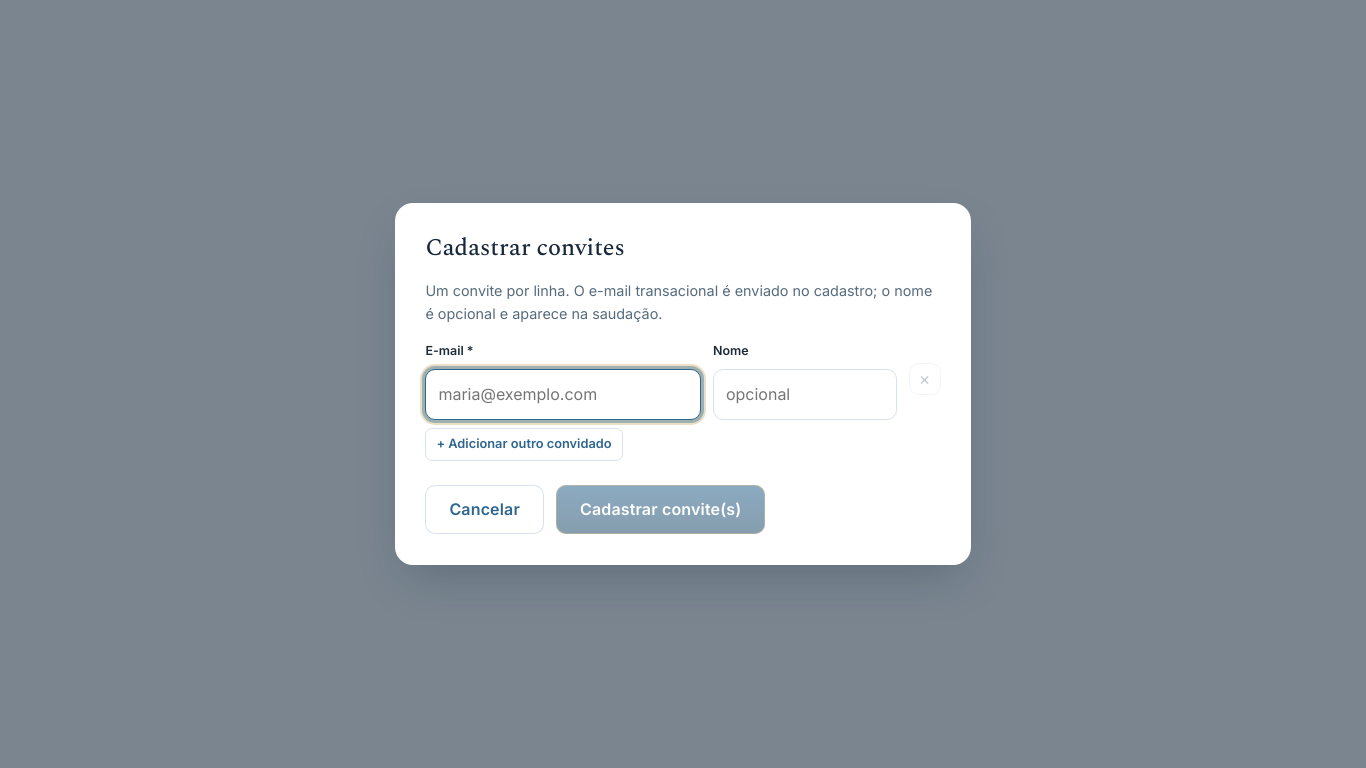
Scenario: ModalConvite › mantém aberto e lista falhas parciais
In the field with placeholder "maria@exemplo.com": (563,395) [425,369,701,420], type "a@x.com"
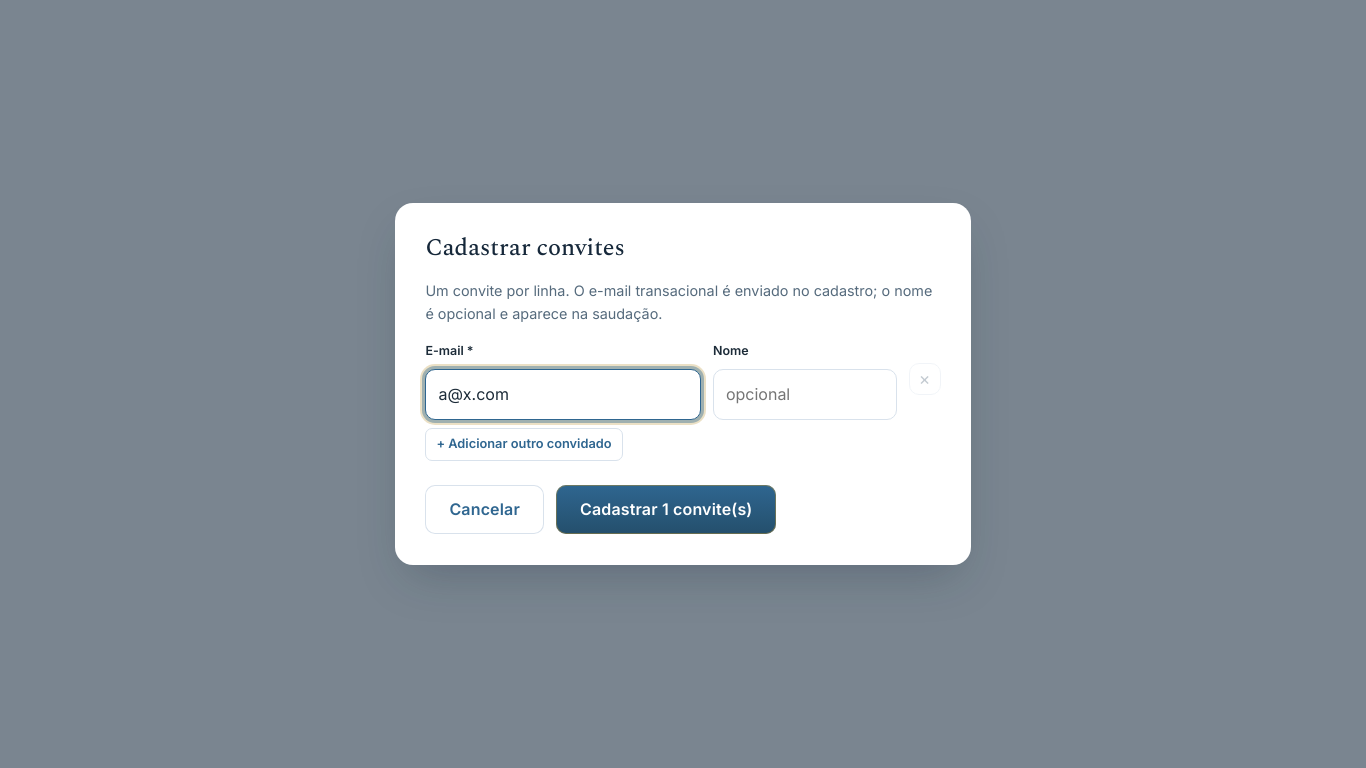
Click the button "Cadastrar 1 convite(s)": (666,510) [556,485,776,534]
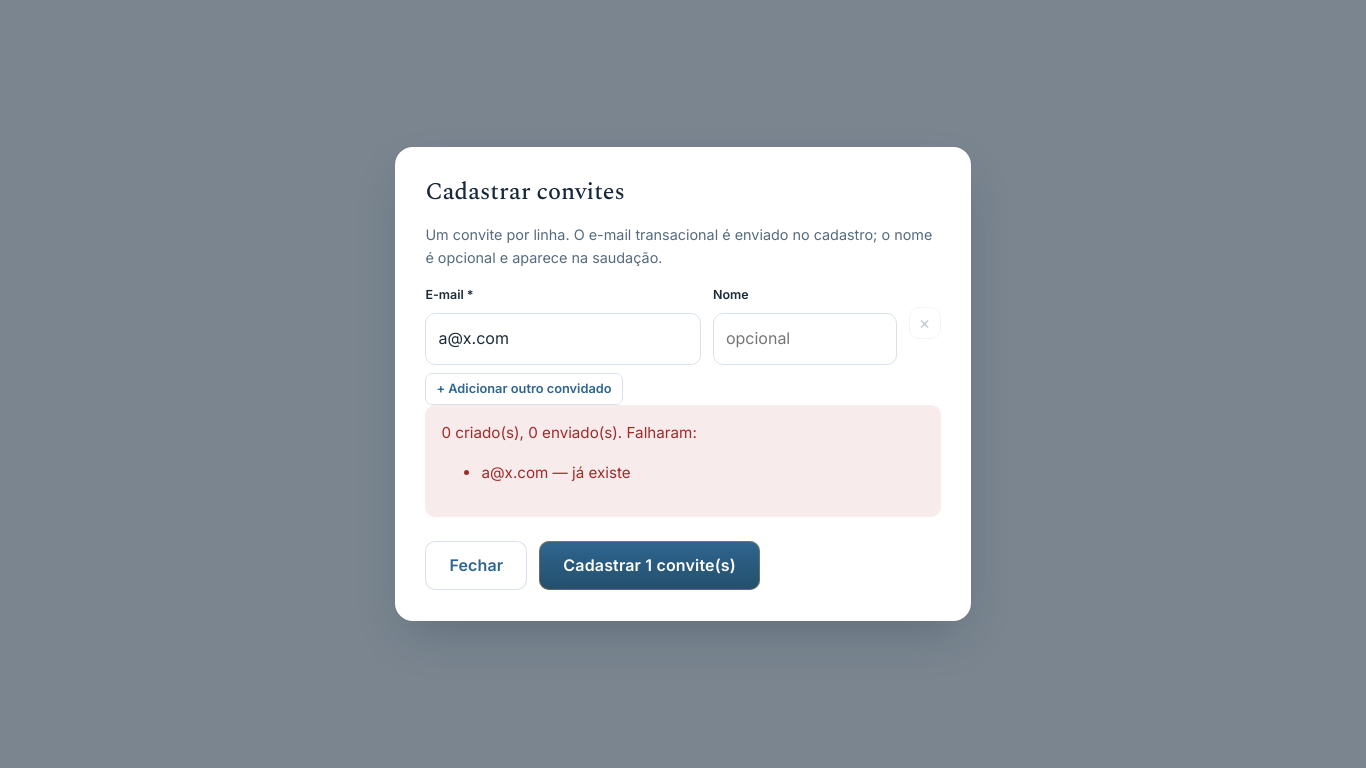
Expected: the list item "a@x.com — já existe" is shown, [481,463,631,482]
